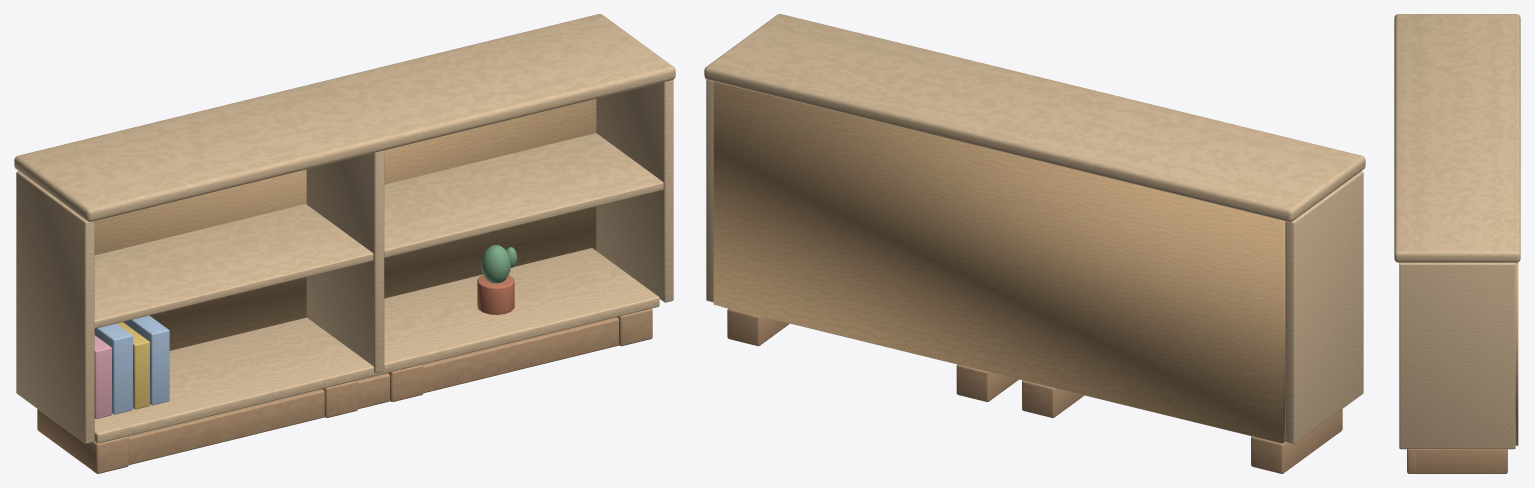
Rendered from trumua-low-shelf.glb.
3 renders of one model, left to right at view 1: azimuth 30°, elevation 25°; view 2: azimuth 150°, elevation 25°; view 3: azimuth 270°, elevation 25°, orthographic. The views are drawn at different scales.
Parts seen in each view (by area): view 1: trumua-low-shelf; view 2: trumua-low-shelf; view 3: trumua-low-shelf.
Part boxes in pixels (bbox=[...]): trumua-low-shelf: bbox=[14, 14, 675, 473]; trumua-low-shelf: bbox=[704, 14, 1365, 473]; trumua-low-shelf: bbox=[1394, 14, 1520, 473].
Size of the model in its own units: 1.8 by 0.8 by 0.4.
Materials: 1 (1 with a texture image).
